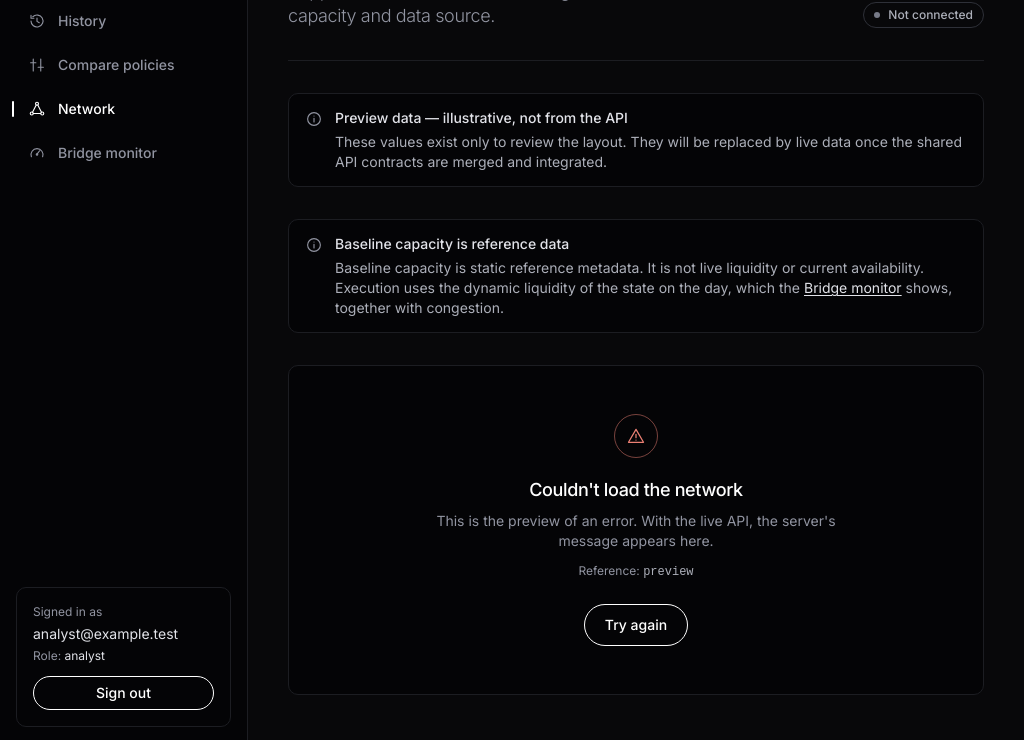
Test: NetworkPage states at 1024px and above › shows the error state and recovers with Try again
(page scrolled)
Check: the message shows "Couldn't load the network", box [529,480,743,500]
What coordinates should you click on to do the following:
click the button "Try again"
I would click on:
 (636, 625)
Its box is [584,604,688,646].
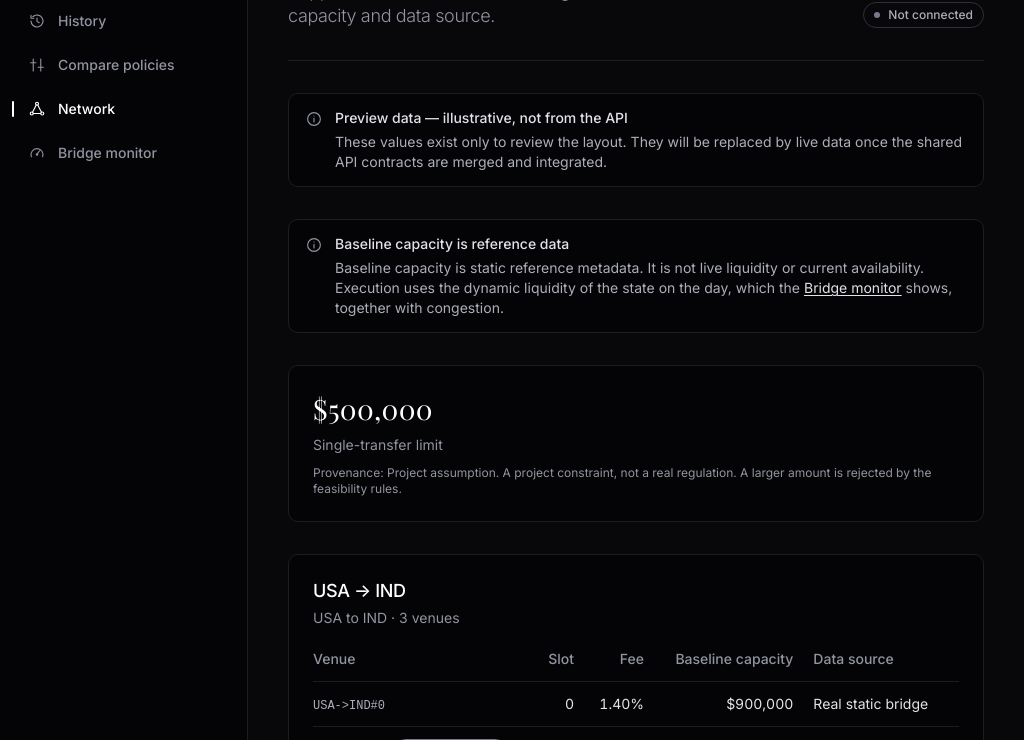
Check: the message is gone
